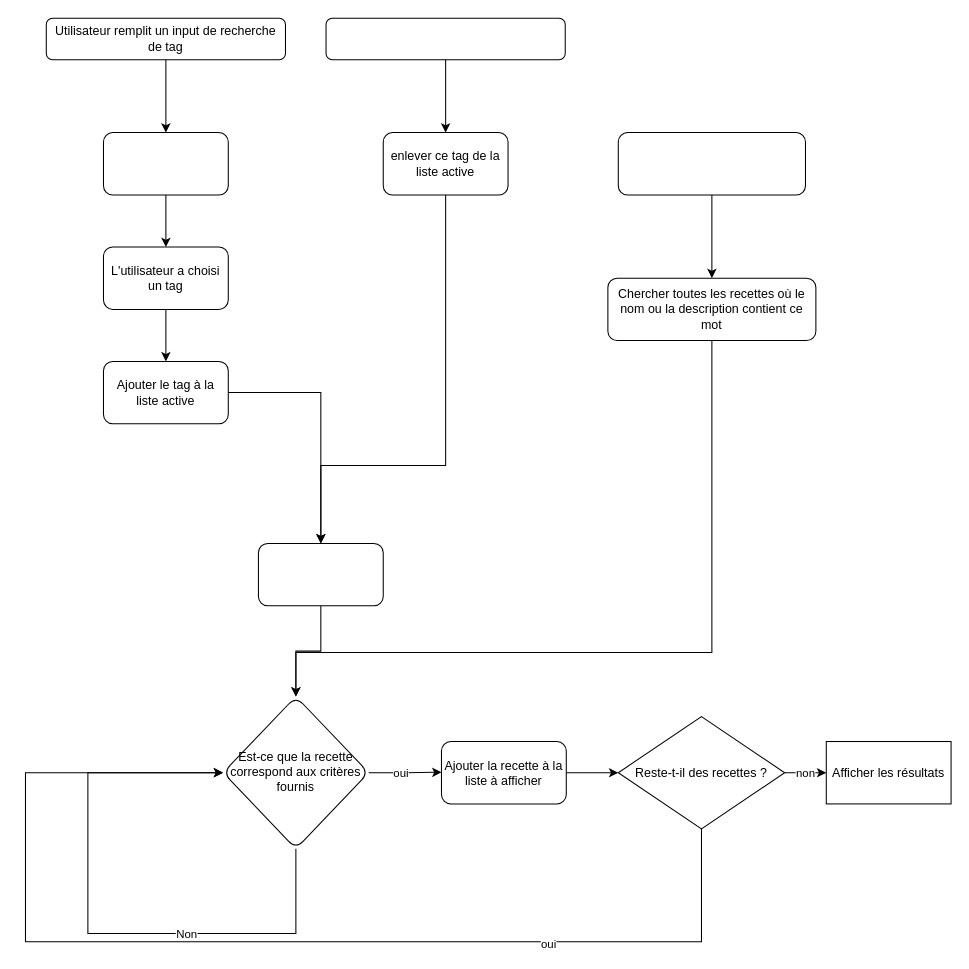
This 969x969 diagram has some shape labels left out. Each missing label, with the box of its shape:
Afficher les tags disponibles: (102, 132, 228, 195)
Une liste de tag est définie (ustensile, ingrédient, appareil): (257, 542, 383, 606)
Utilisateur remplit la barre de recherche principal: (617, 132, 805, 195)
Utilisateur surprime un tag: (325, 17, 565, 60)
